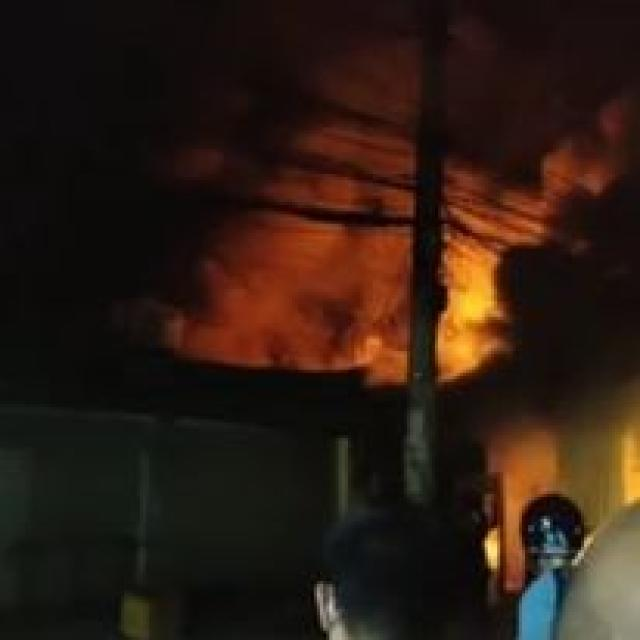Fire: (437, 234, 502, 398)
Smoke: (148, 16, 640, 390)
